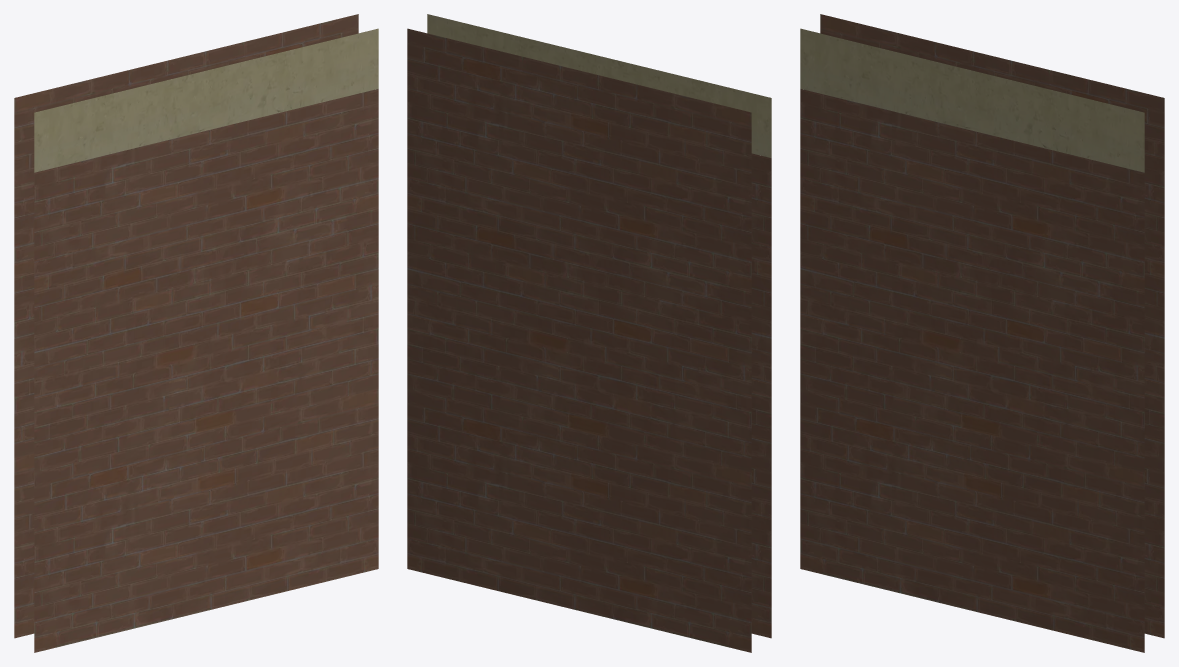
The model's file is Brick_TopTrim.glb.
3 renders of one model, left to right at view 1: azimuth 30°, elevation 25°; view 2: azimuth 150°, elevation 25°; view 3: azimuth 330°, elevation 25°, orthographic.
Parts seen in each view (by area): view 1: Brick_TopTrim; view 2: Brick_TopTrim; view 3: Brick_TopTrim.
Boxes of the visible parts, x1,y1,x2,y2 form: Brick_TopTrim: (14,14,378,652); Brick_TopTrim: (407,14,771,652); Brick_TopTrim: (800,14,1164,652).
Size of the model in its own units: 2 by 3 by 0.2.
2 materials, 2 textured.
